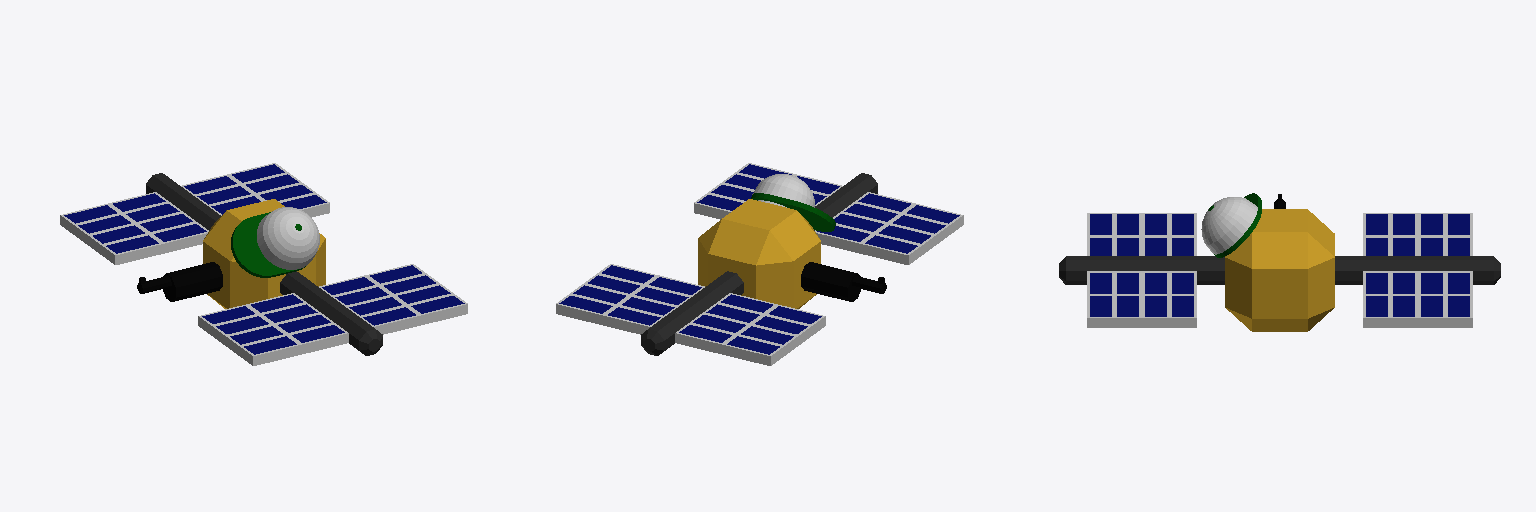
File: probe.obj
3 renders of one model, left to right at view 1: azimuth 30°, elevation 25°; view 2: azimuth 150°, elevation 25°; view 3: azimuth 270°, elevation 25°, orthographic.
Visible parts, largest first — view 1: Cube, Sphere; view 2: Cube, Sphere; view 3: Cube, Sphere.
Boxes of the visible parts, box(x1,y1,x2,y2) form: Cube: box(60, 163, 467, 365); Sphere: box(231, 207, 319, 277); Cube: box(556, 163, 963, 365); Sphere: box(751, 174, 835, 231); Cube: box(1059, 194, 1500, 331); Sphere: box(1201, 193, 1261, 257).
Bounding box in the file's own units: 9.7 × 4.85 × 16.